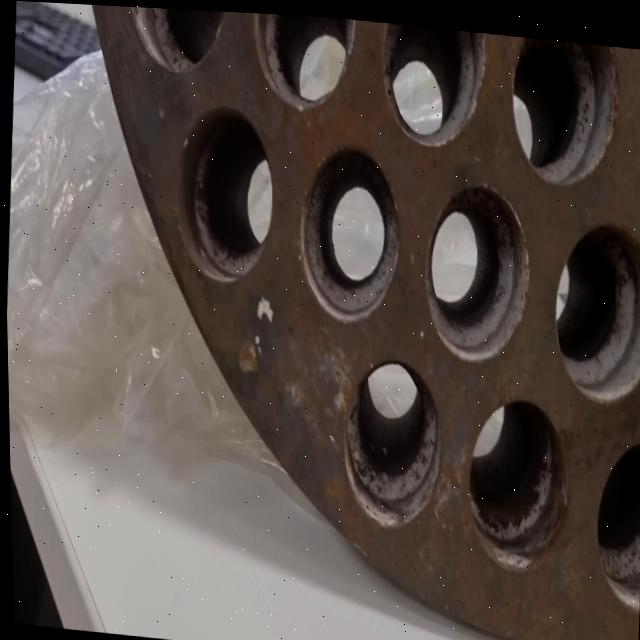Hole: (419, 173, 535, 363), (292, 137, 406, 324), (461, 387, 573, 572), (173, 98, 279, 286), (336, 350, 446, 529), (505, 31, 622, 185), (548, 211, 640, 402), (378, 18, 489, 148), (249, 10, 359, 113), (587, 429, 640, 608), (123, 5, 230, 75)
